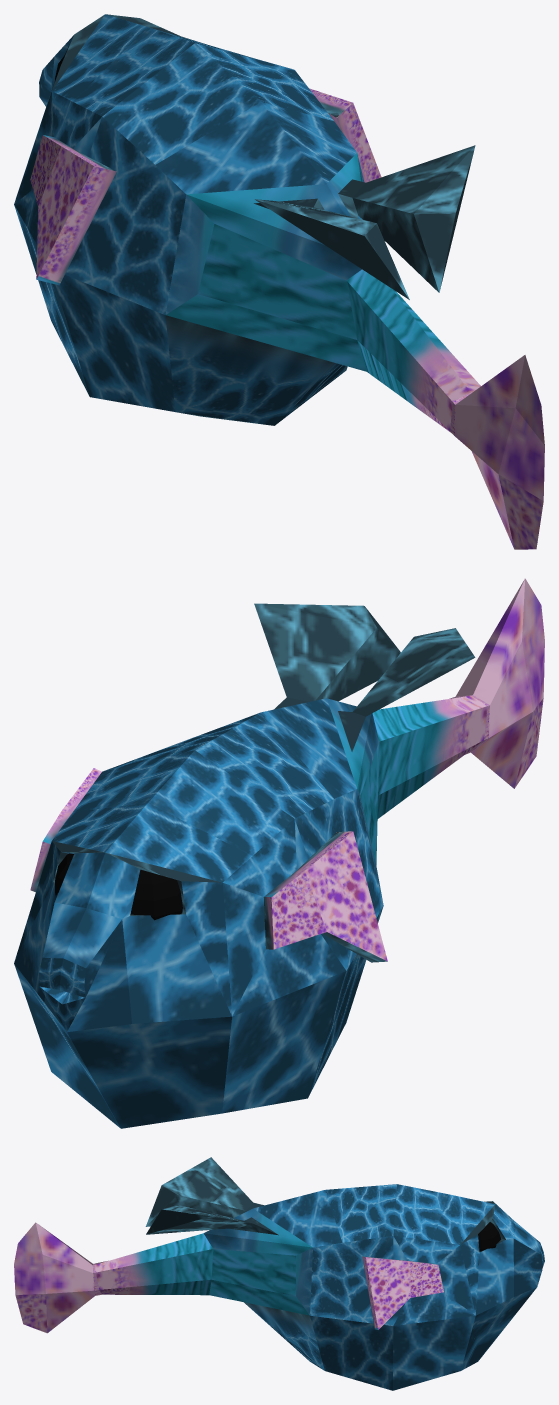
The model's file is PufferFish1.fbx.
3 renders of one model, top to bottom at view 1: azimuth 30°, elevation 25°; view 2: azimuth 150°, elevation 25°; view 3: azimuth 270°, elevation 25°, orthographic. The views are drawn at different scales.
Parts seen in each view (by area): view 1: Cube; view 2: Cube, Sphere; view 3: Cube, Sphere.
Part boxes in pixels (<box>): Cube: <box>14,14,544,549</box>; Cube: <box>14,578,544,1128</box>; Sphere: <box>55,853,182,920</box>; Cube: <box>14,1157,544,1390</box>; Sphere: <box>478,1222,501,1251</box>.
Bounding box in the file's own units: 52.07 × 52.31 × 124.
